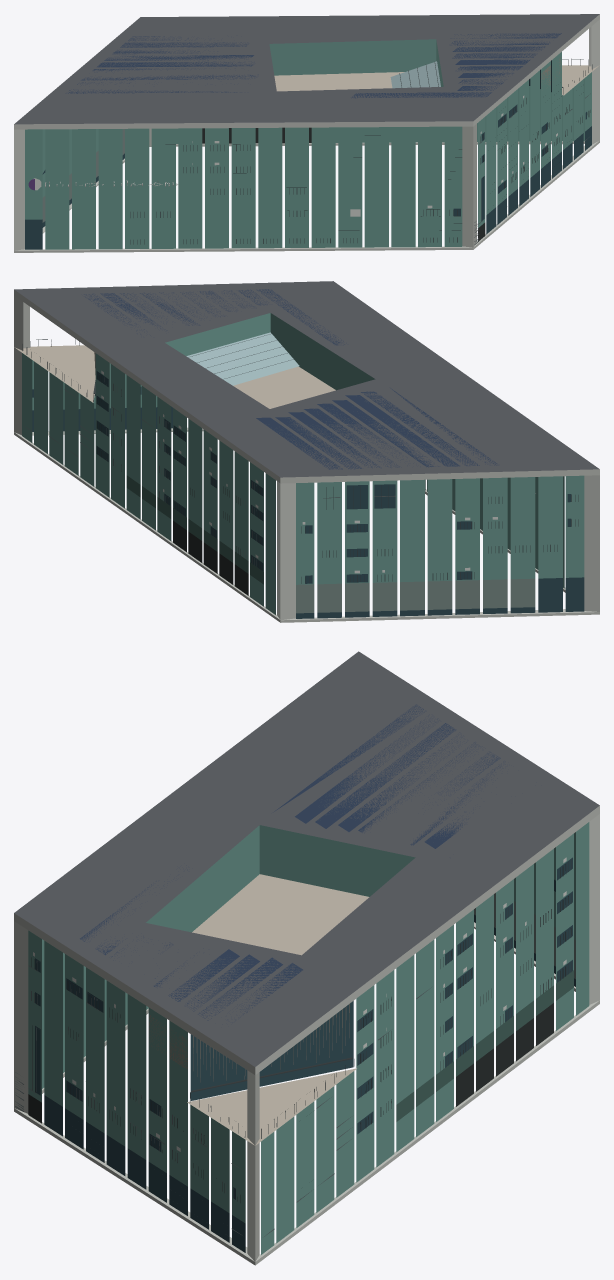
File: nfta-markenplein.lod1.glb
3 renders of one model, top to bottom at view 1: azimuth 30°, elevation 25°; view 2: azimuth 150°, elevation 25°; view 3: azimuth 270°, elevation 25°, orthographic. The views are drawn at different scales.
Visible parts, largest first — view 1: nfta-markenplein; view 2: nfta-markenplein; view 3: nfta-markenplein.
Part boxes in pixels (x1,y1,x2,y2): nfta-markenplein: (14, 14, 599, 252); nfta-markenplein: (14, 281, 599, 622); nfta-markenplein: (14, 651, 599, 1265).
Size of the model in its own units: 87.14 by 19.39 by 51.89.
